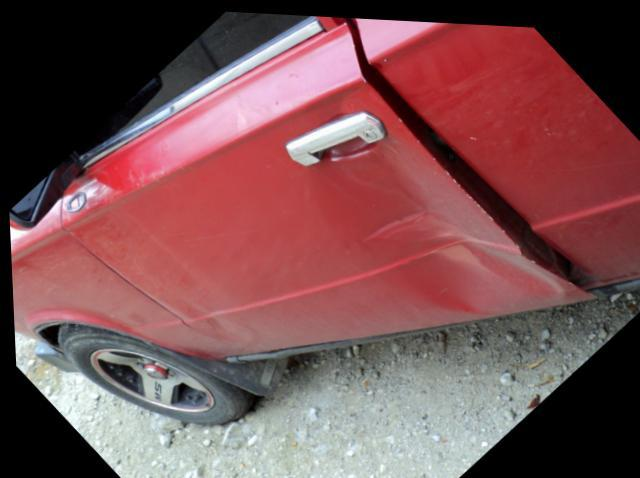dent: (313, 138, 555, 310)
